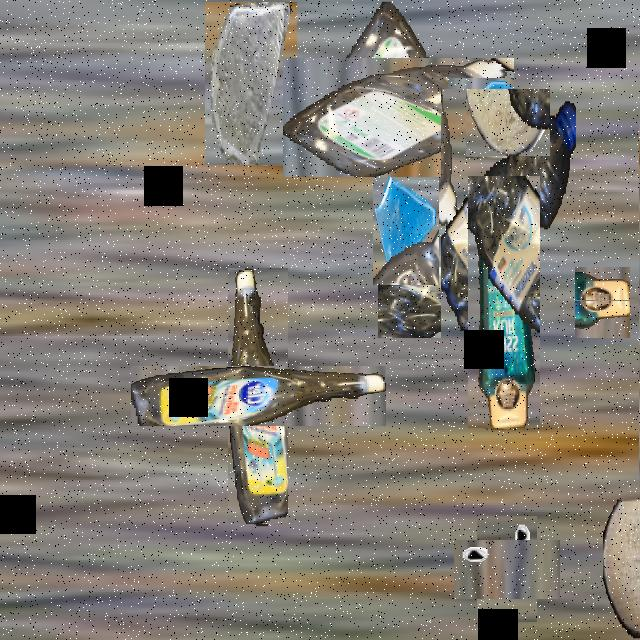glass: (205, 2, 297, 165), (373, 167, 439, 285)
metal: (466, 527, 548, 611)
plastic: (441, 89, 575, 338), (311, 30, 487, 205), (423, 221, 585, 383), (179, 318, 337, 476), (545, 206, 640, 395)
wood: (466, 89, 550, 156), (603, 500, 640, 638)
